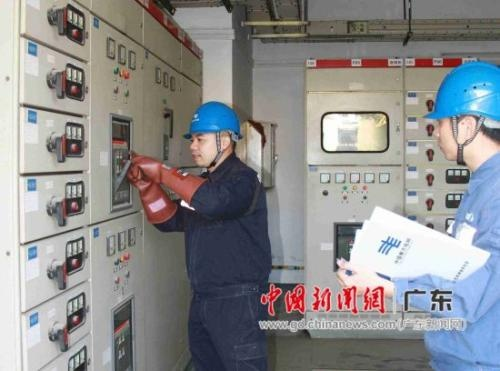blue: (427, 58, 500, 169), (184, 98, 241, 172)
